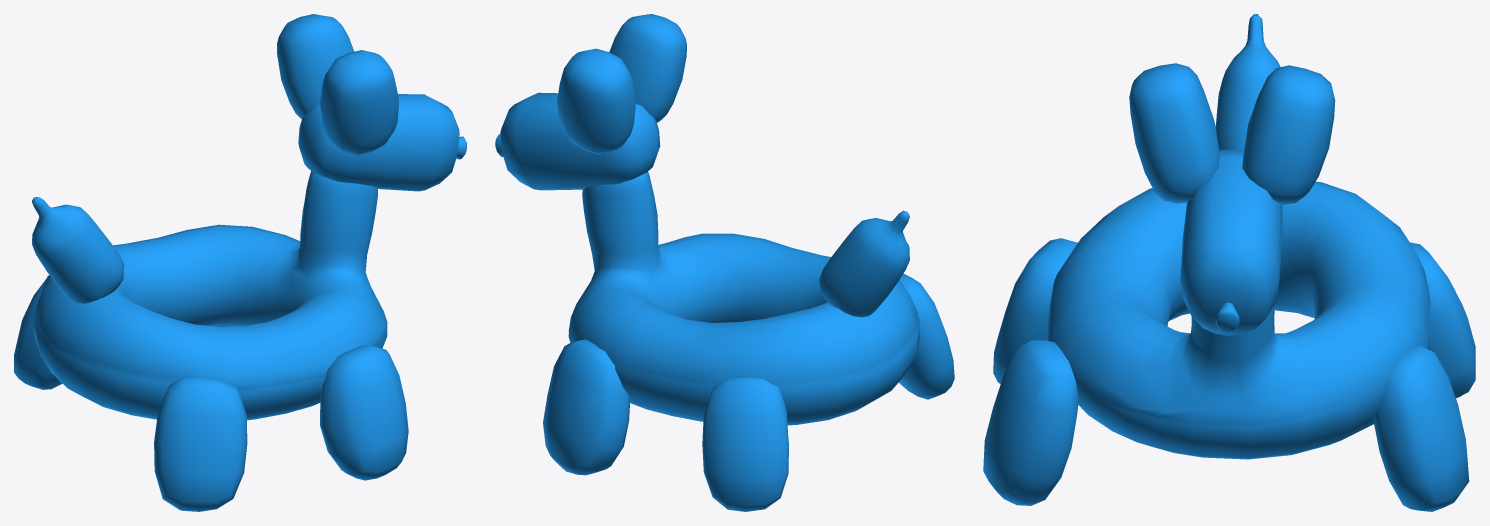
The model's file is Phao18.fbx.
The picture shows the model from 3 angles, left to right: view 1: azimuth 30°, elevation 25°; view 2: azimuth 150°, elevation 25°; view 3: azimuth 270°, elevation 25°; orthographic projection. The views are drawn at different scales.
Visible parts, largest first — view 1: Dog1_low_Dog_Balloon_0; view 2: Dog1_low_Dog_Balloon_0; view 3: Dog1_low_Dog_Balloon_0.
Boxes of the visible parts, x1,y1,x2,y2 form: Dog1_low_Dog_Balloon_0: (14, 14, 466, 511); Dog1_low_Dog_Balloon_0: (495, 14, 954, 511); Dog1_low_Dog_Balloon_0: (983, 14, 1475, 511).
Size of the model in its own units: 1.91 by 1.59 by 1.55.
